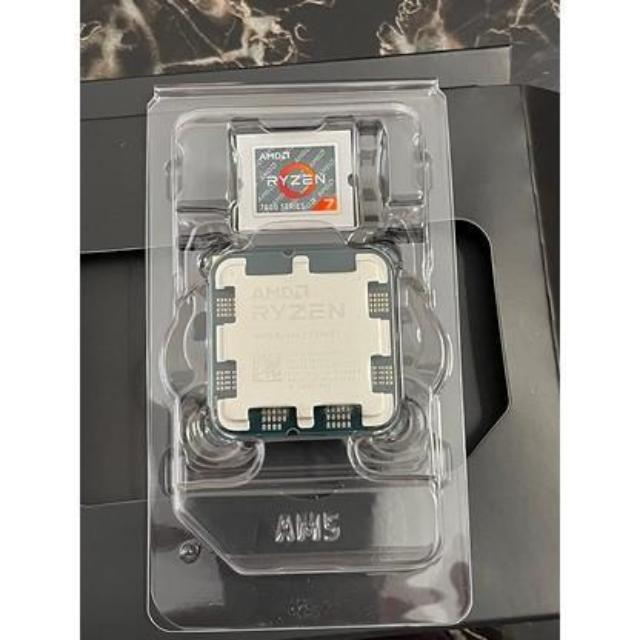CPU: (208, 258, 397, 428)
